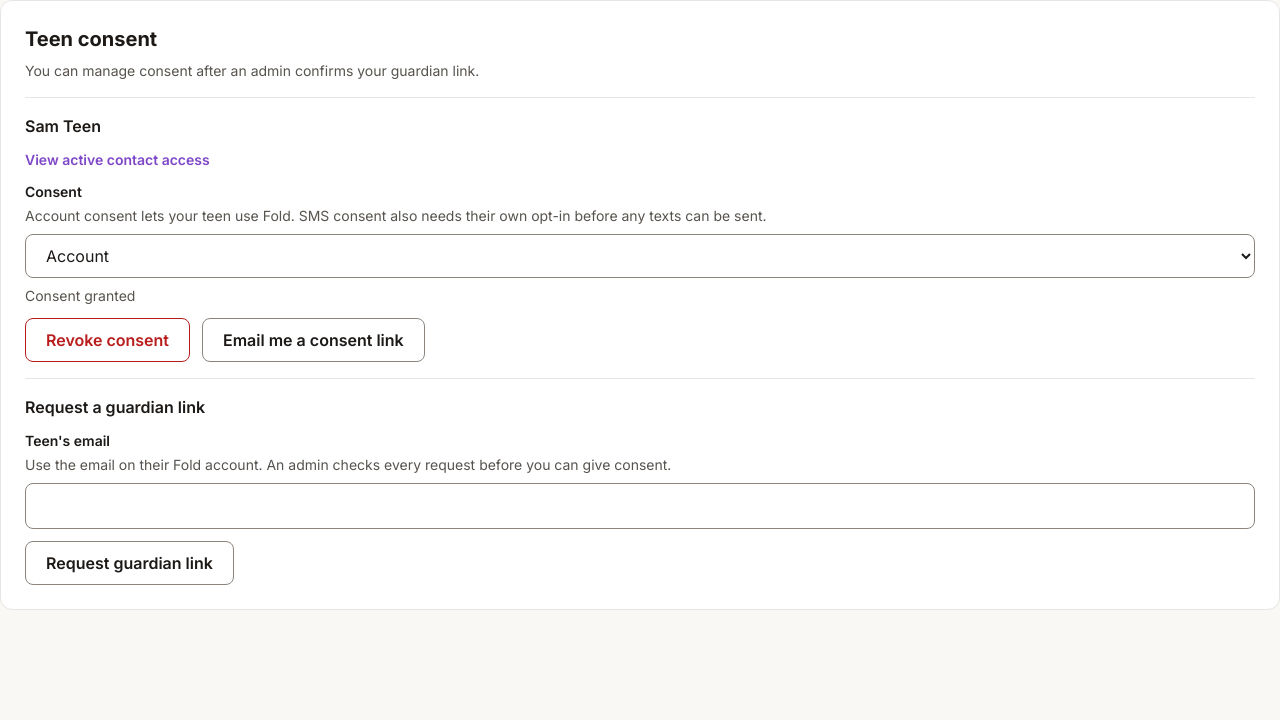
Test: failed consent revocation preserves the expanded current grant
Step 1. Click the button "View active contact access" → (117, 160), box [25, 138, 210, 182]
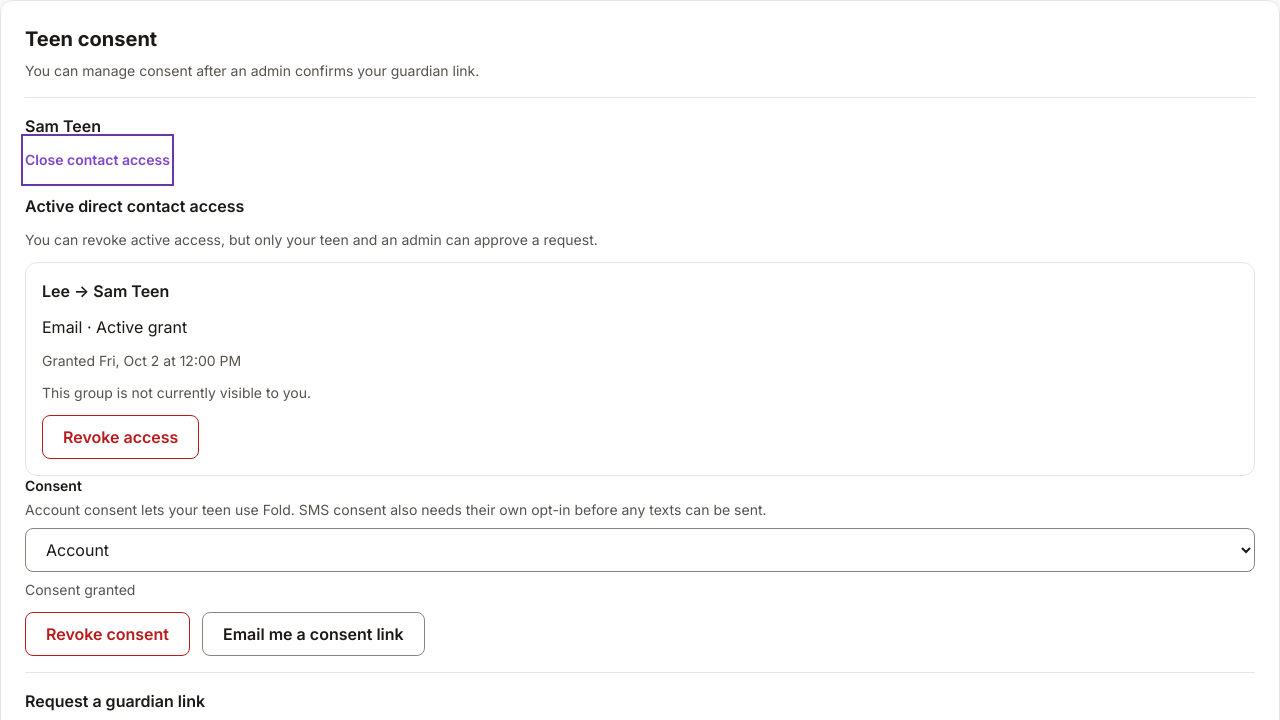
Expected: the button "Revoke access" is shown, [42, 415, 199, 459]
Step 2. Click the button "Revoke consent" → (108, 634), box [25, 612, 190, 656]
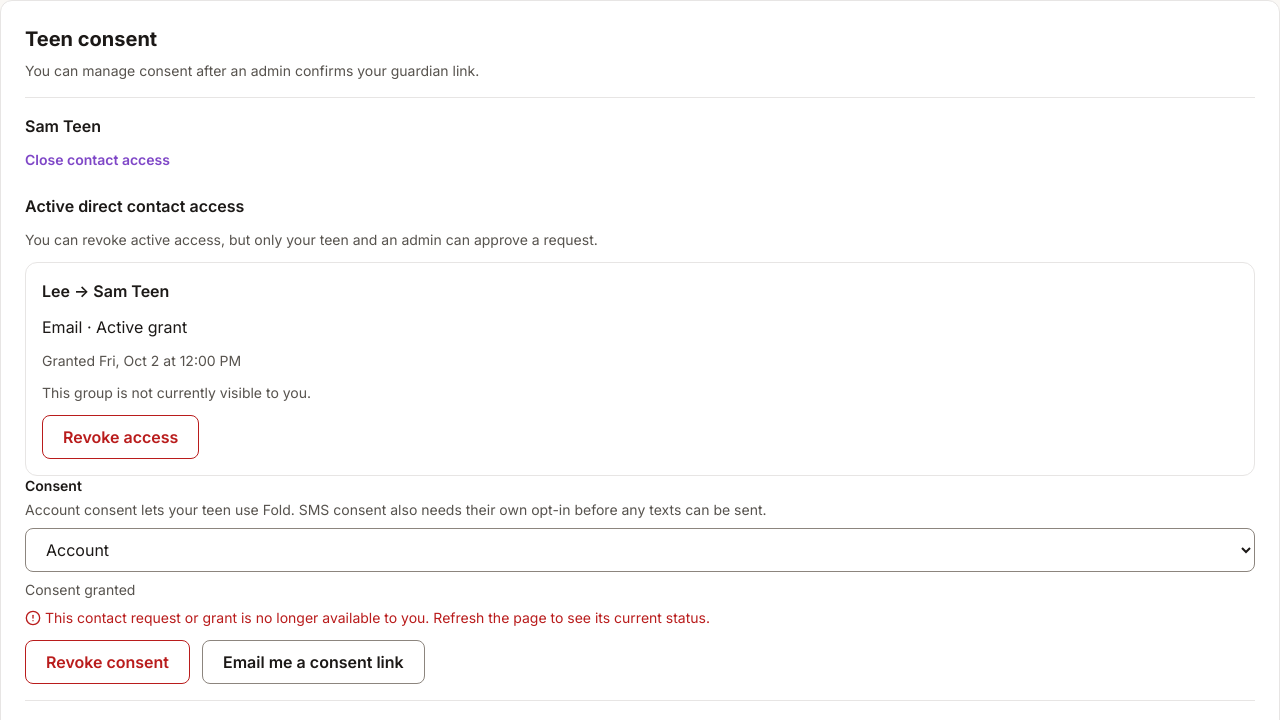
Expected: the button "Close contact access" is expanded, [25, 138, 170, 182]
Expected: the button "Revoke access" is shown, [42, 415, 199, 459]
Expected: the message shows "no longer available to you", [45, 609, 710, 626]
